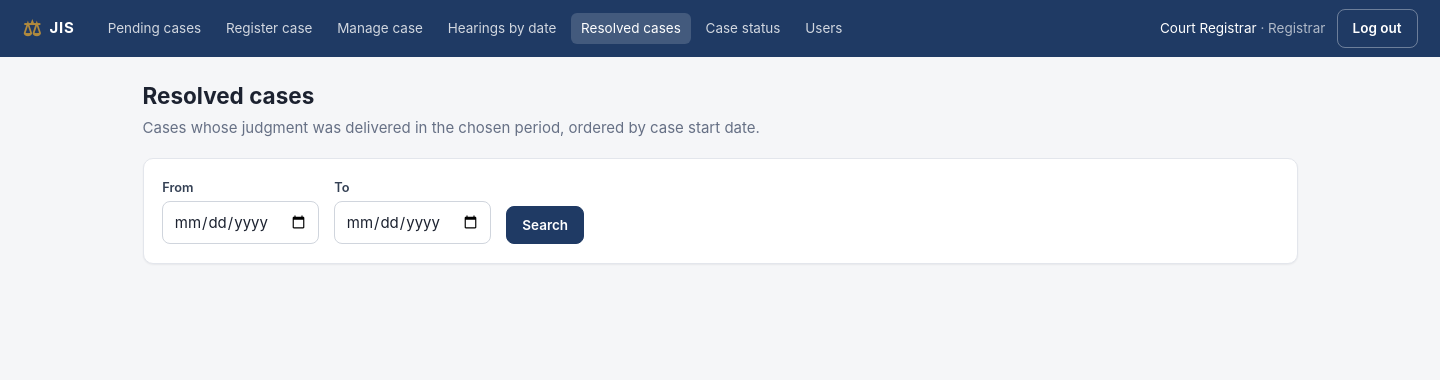
Scenario: registrar queries › resolved cases for a period
Type "2026-01-01" into the date field labelled "From".
click(241, 223); type("2026-01-01")  # box [162,201,319,244]
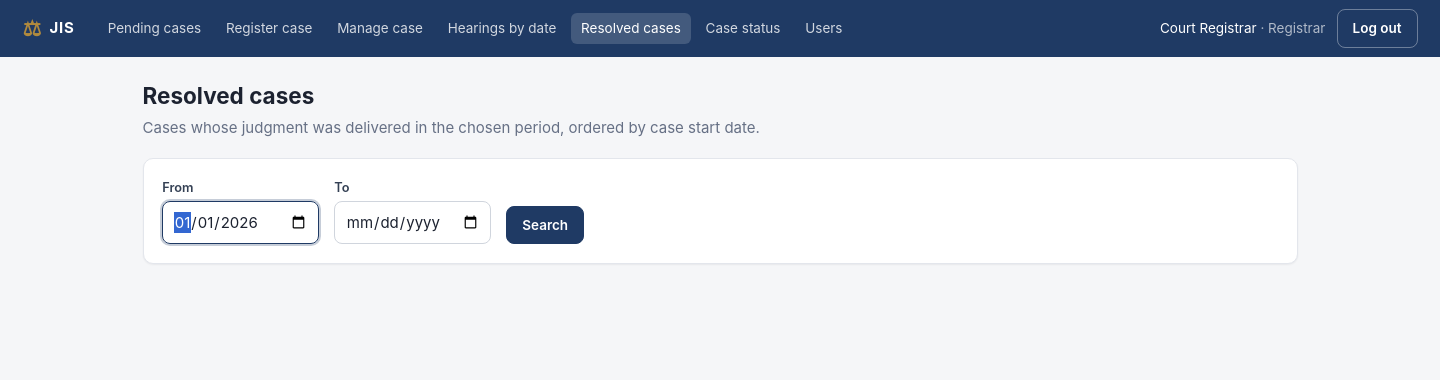
Type "2026-12-31" into the date field labelled "To".
click(413, 223); type("2026-12-31")  # box [334,201,491,244]
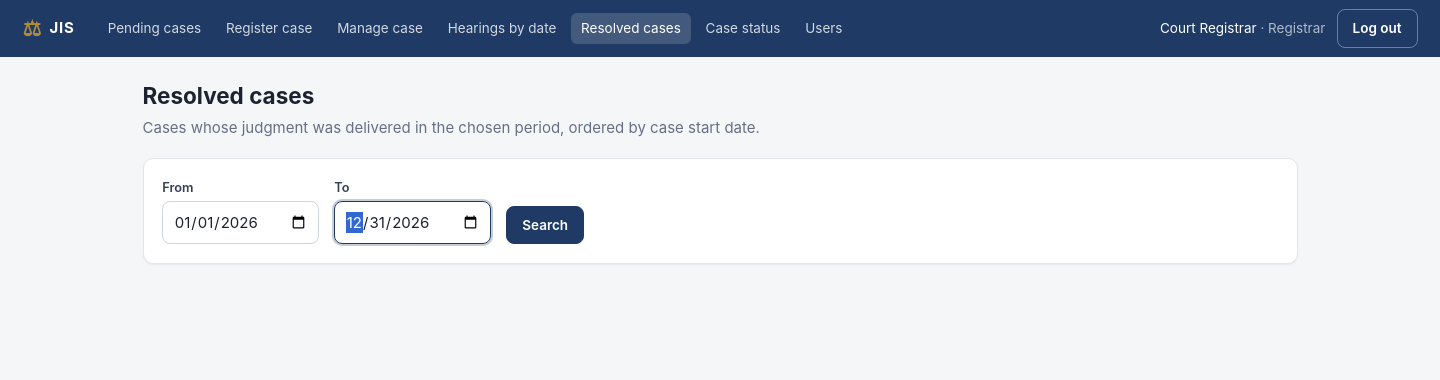
Click the button "Search".
click(545, 225)  # box [506,206,584,244]
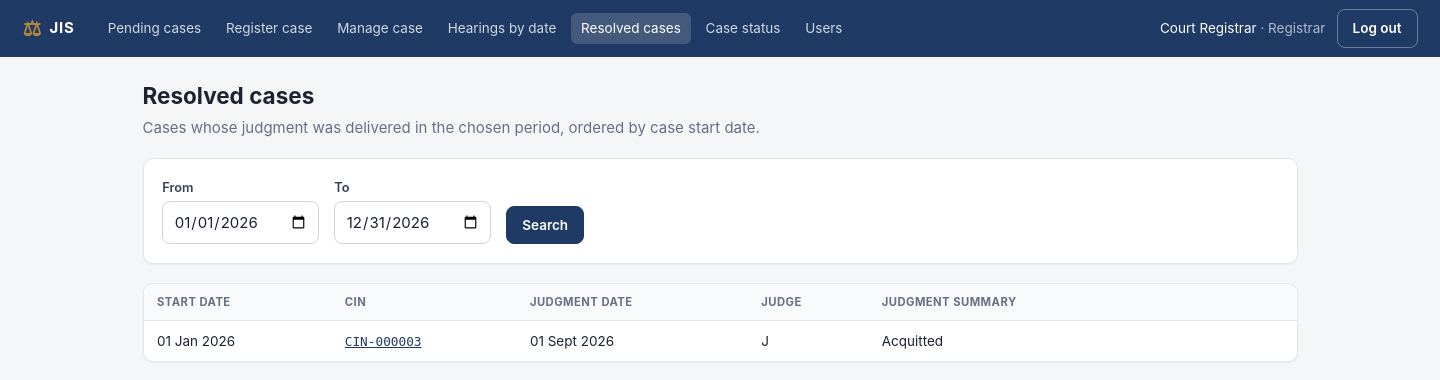
expect the text "Acquitted" is shown: met, box [868,321,1296,361]
